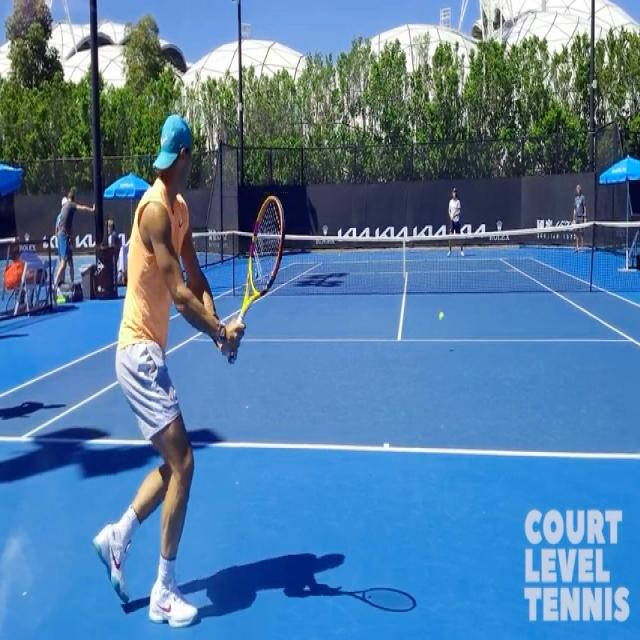backhand-ready: (80, 118, 282, 629)
